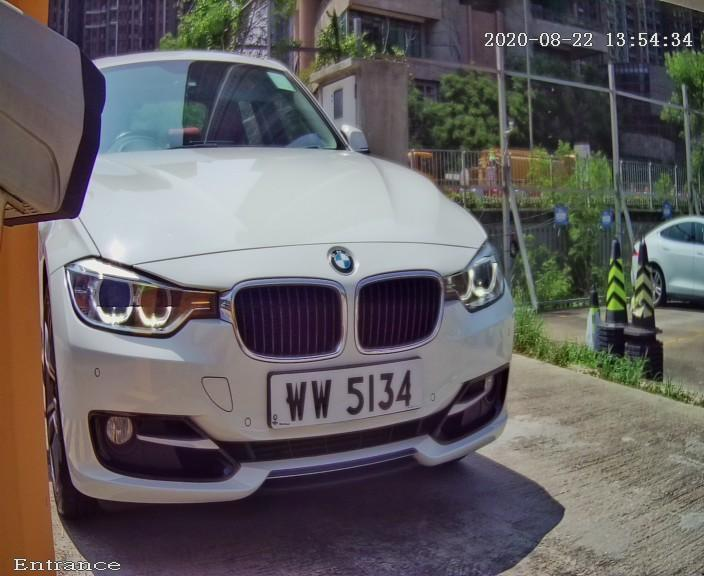Car: (1, 6, 566, 561)
License Plate: (241, 348, 444, 451)
